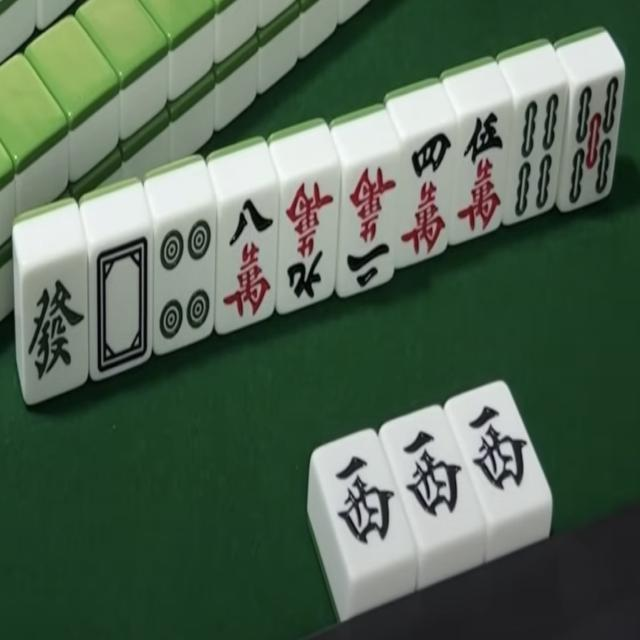bai: (90, 230, 156, 381)
fa: (21, 258, 91, 407)
m2: (339, 174, 400, 293)
m4: (399, 129, 461, 267)
m5: (453, 105, 508, 239)
m8: (217, 190, 279, 328)
m9: (280, 167, 338, 307)
s4: (509, 88, 569, 224)
s5: (564, 76, 627, 214)
t4: (157, 213, 218, 351)
west: (315, 436, 407, 570), (456, 385, 544, 516), (396, 418, 462, 524)
